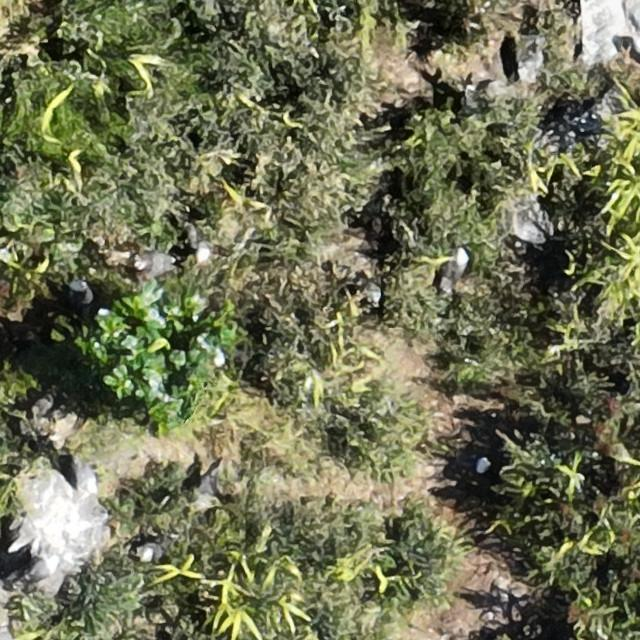umineko: (133, 252, 179, 274), (70, 459, 96, 495), (444, 250, 468, 286), (138, 541, 174, 561), (24, 556, 53, 578), (70, 282, 93, 309), (474, 451, 496, 474)
